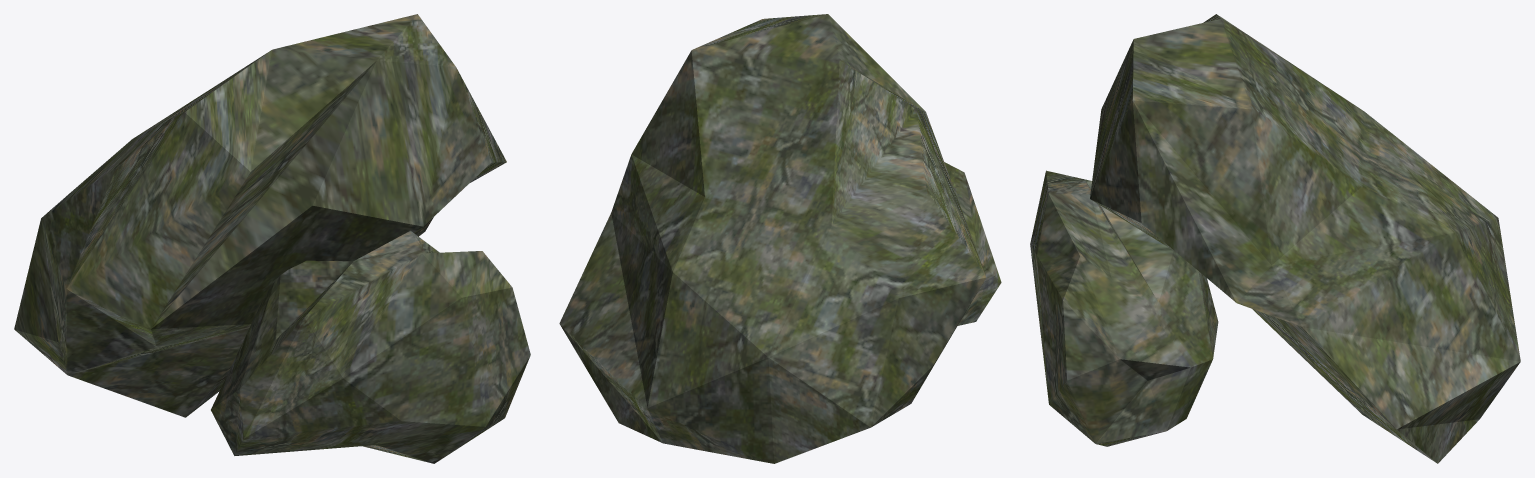
The model's file is C1SNLARGEROCKC_SC.obj.
3 renders of one model, left to right at view 1: azimuth 30°, elevation 25°; view 2: azimuth 150°, elevation 25°; view 3: azimuth 270°, elevation 25°, orthographic. The views are drawn at different scales.
Parts seen in each view (by area): view 1: Node 0; view 2: Node 0; view 3: Node 0.
Part boxes in pixels (left/top/right/bottom): Node 0: left=14, top=14, right=530, bottom=463; Node 0: left=559, top=14, right=1001, bottom=463; Node 0: left=1030, top=14, right=1520, bottom=463.
Size of the model in its own units: 16.4 by 15.36 by 16.68.
Materials: 1 (1 with a texture image).
